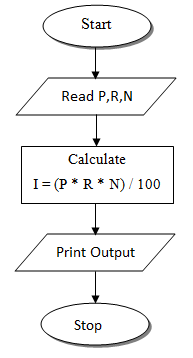arrow: (88, 45, 101, 78), (89, 201, 101, 235), (90, 269, 101, 304), (90, 113, 101, 148)
data: (13, 231, 176, 273), (14, 76, 179, 117)
process: (19, 144, 175, 206)
terminator: (41, 3, 156, 50), (39, 302, 152, 349)
text: (31, 152, 161, 192), (54, 246, 138, 262), (59, 89, 134, 103), (72, 317, 101, 335), (80, 15, 112, 31)
